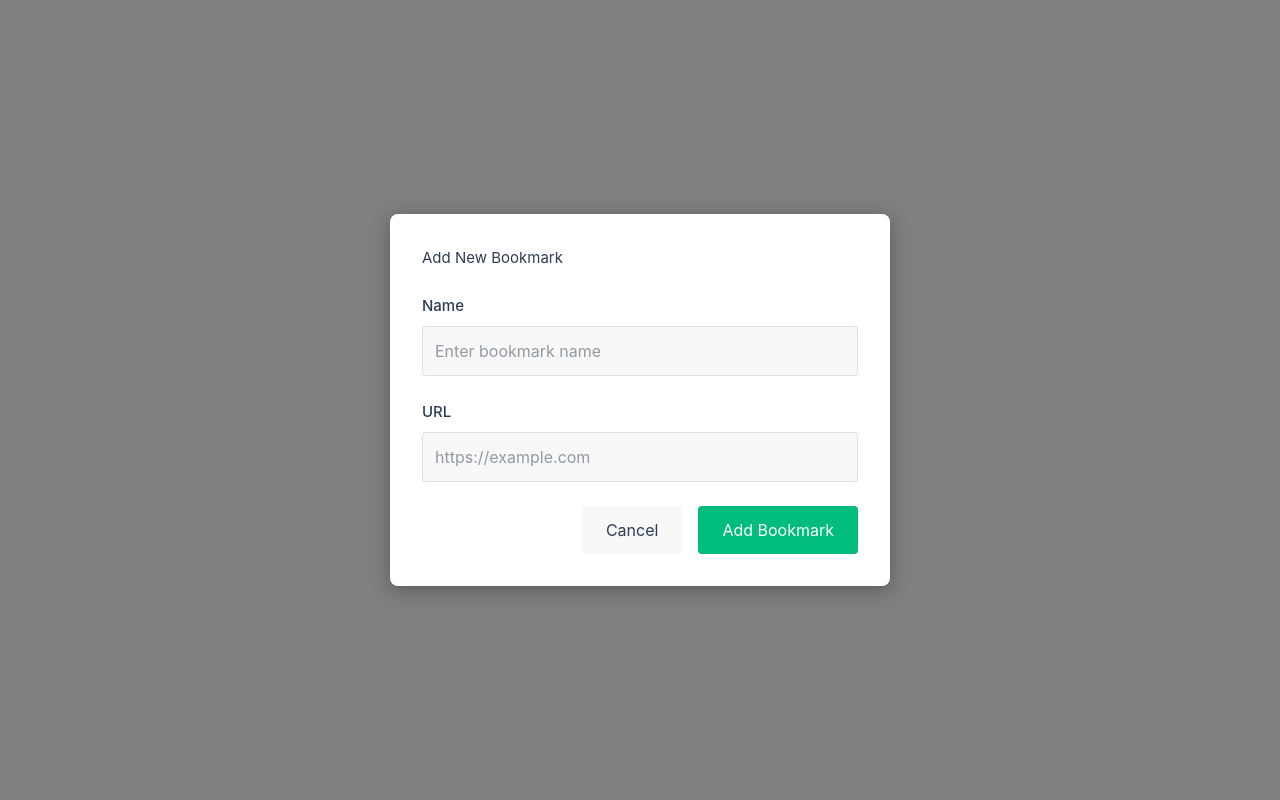
it: AddBookmarkForm › validates URL format
In the field with id "bookmark-name": {"x": 640, "y": 351} [422, 326, 858, 376], type "Test Bookmark"
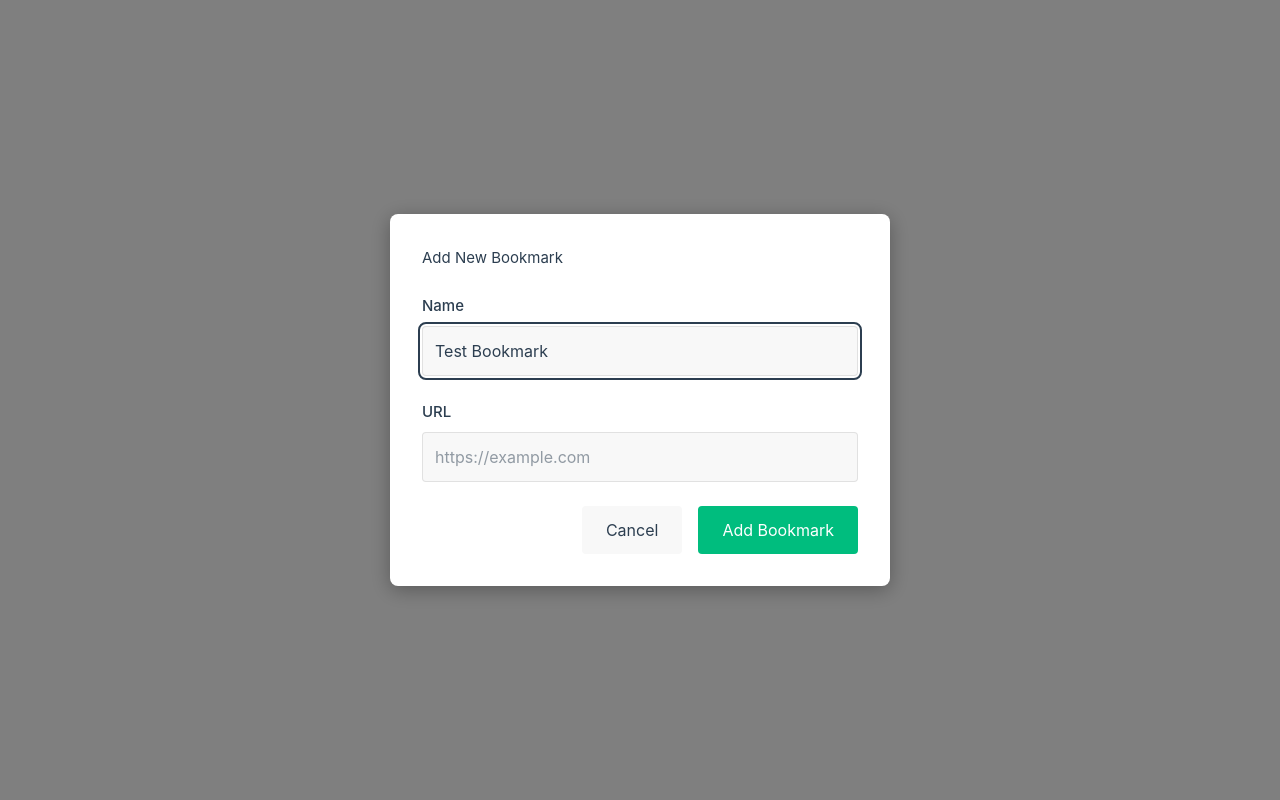
Note: Use a URL that will fail validation even after normalization
In the field with id "bookmark-url": {"x": 640, "y": 457} [422, 432, 858, 482], type "://invalid-url"
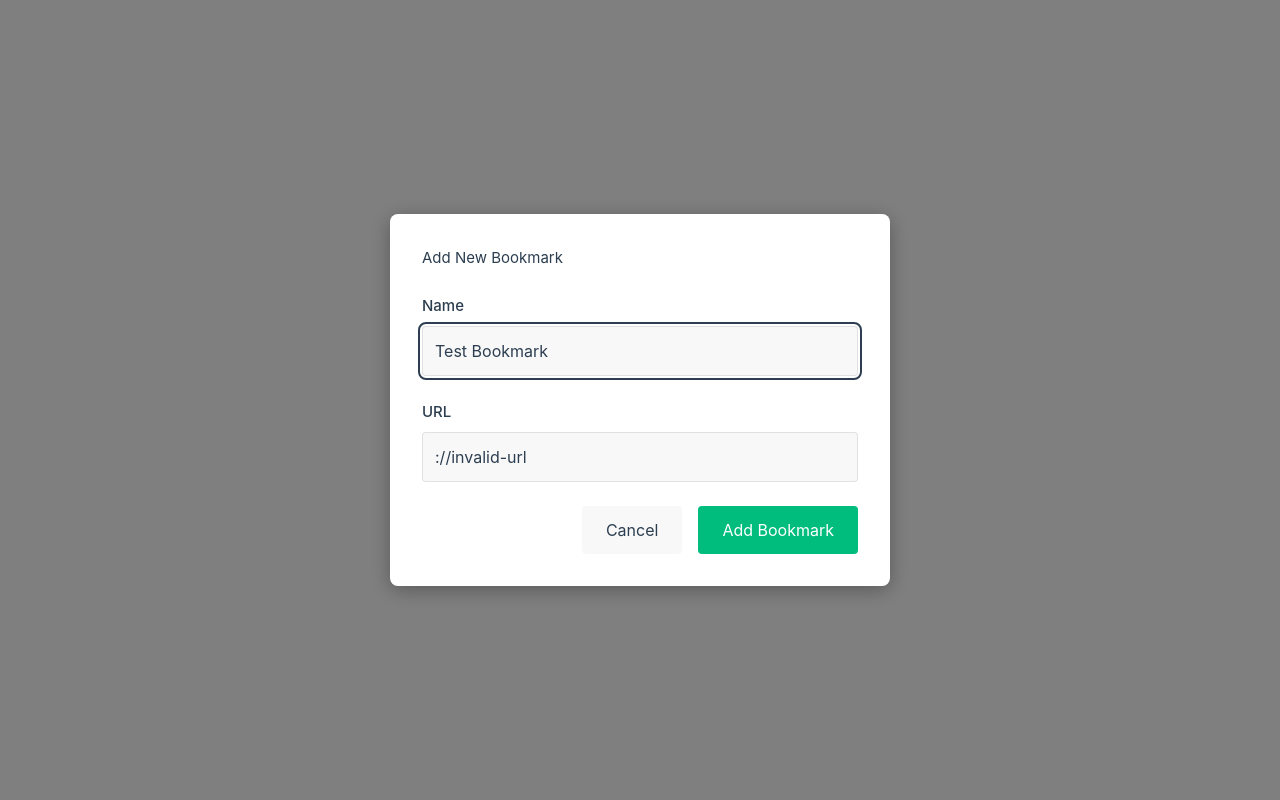
Submit the form, box [422, 294, 858, 554]
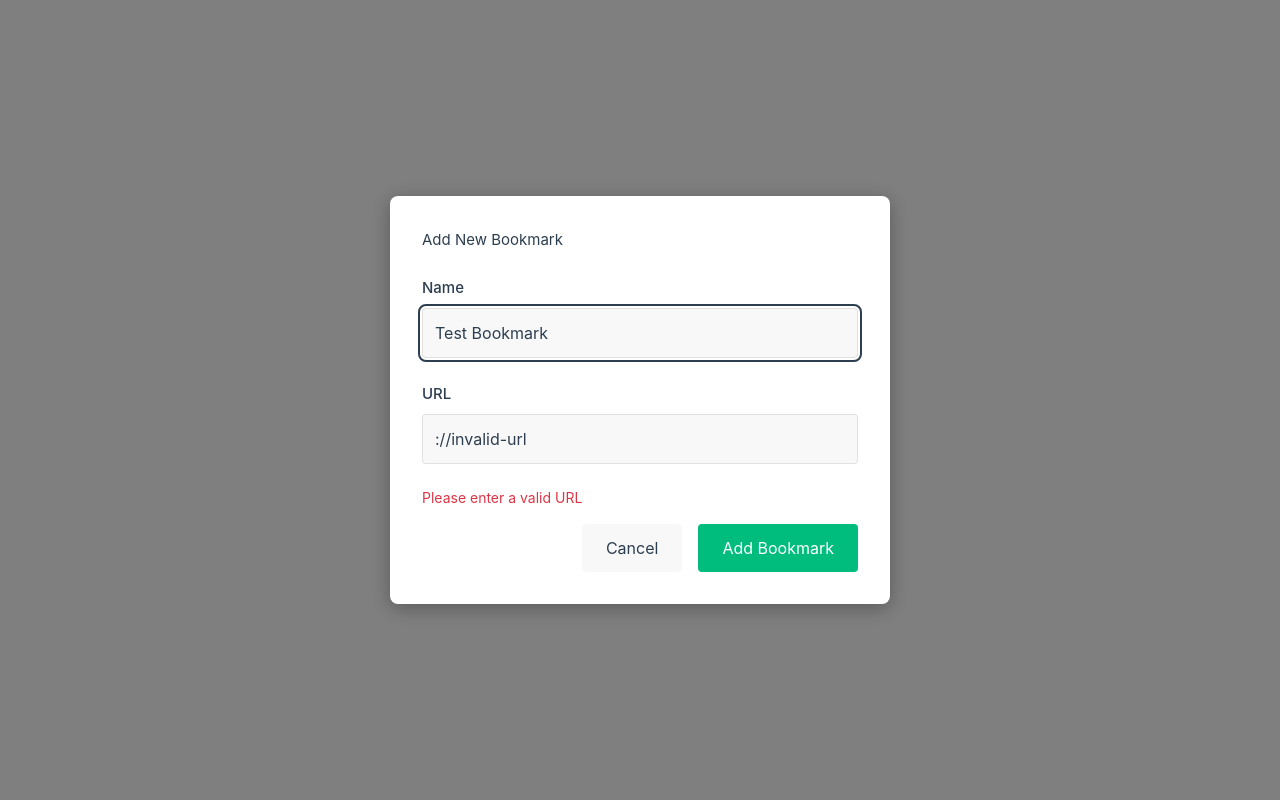
Check: the text "Please enter a valid URL" is shown, box [422, 489, 582, 506]
